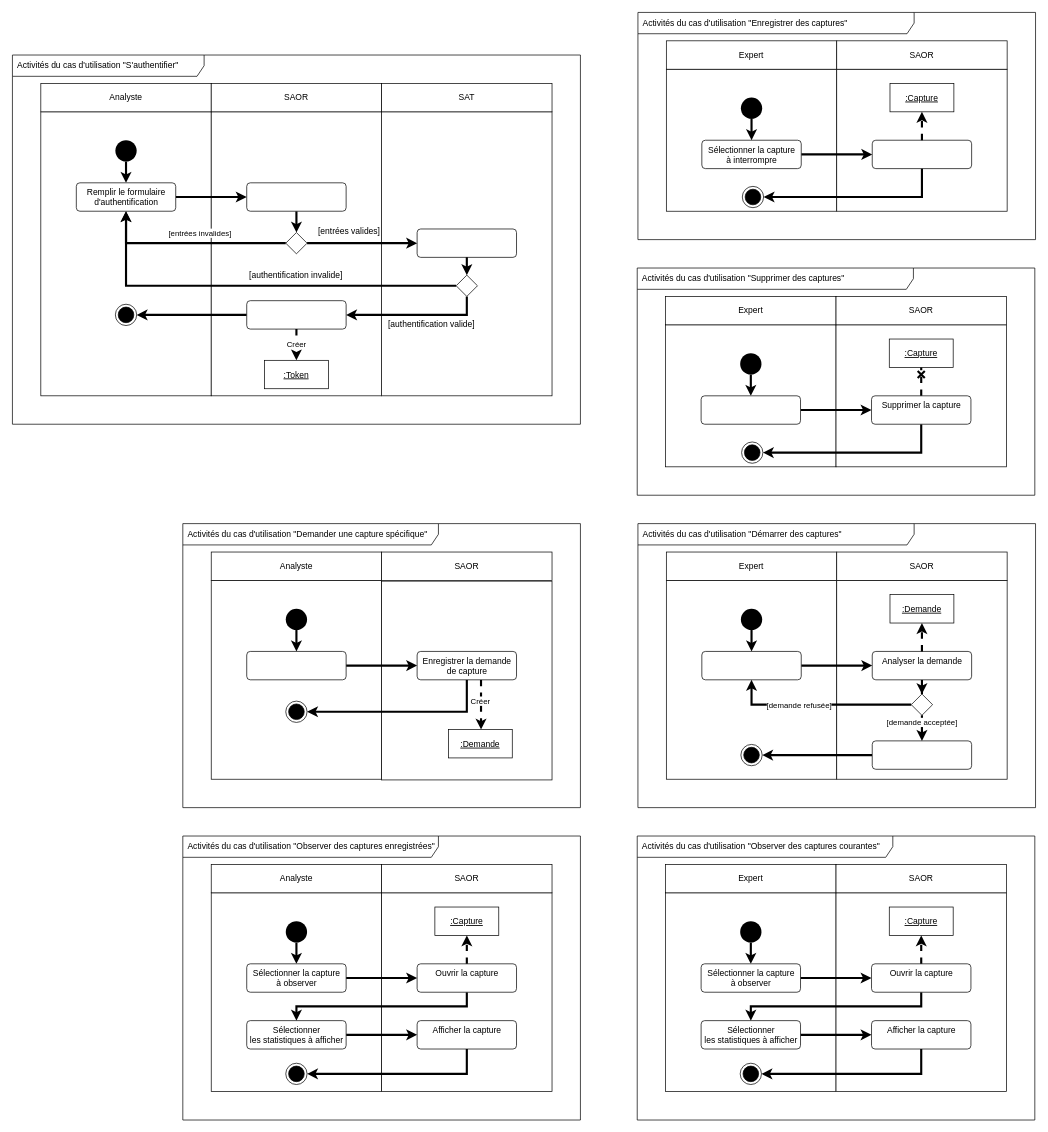
Some shapes in this 1048 by 1132 pixel diagram are drawn without their labels. Each missing label, with the centre of its shape:
Arrêter et enregistrer la capture: pixel 922 154
Créer une session: pixel 296 314
Lancer la capture: pixel 922 754
Remplir le formulaire de demande de capture: pixel 296 665
Sélectionner la capture à supprimer: pixel 750 409
Sélectionner la demande à traiter: pixel 751 665
Vérifier l'authentification: pixel 466 242
Vérifier les entrées utilisateur: pixel 296 196
